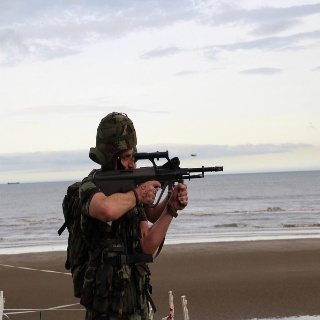rifle: (93, 149, 225, 220)
